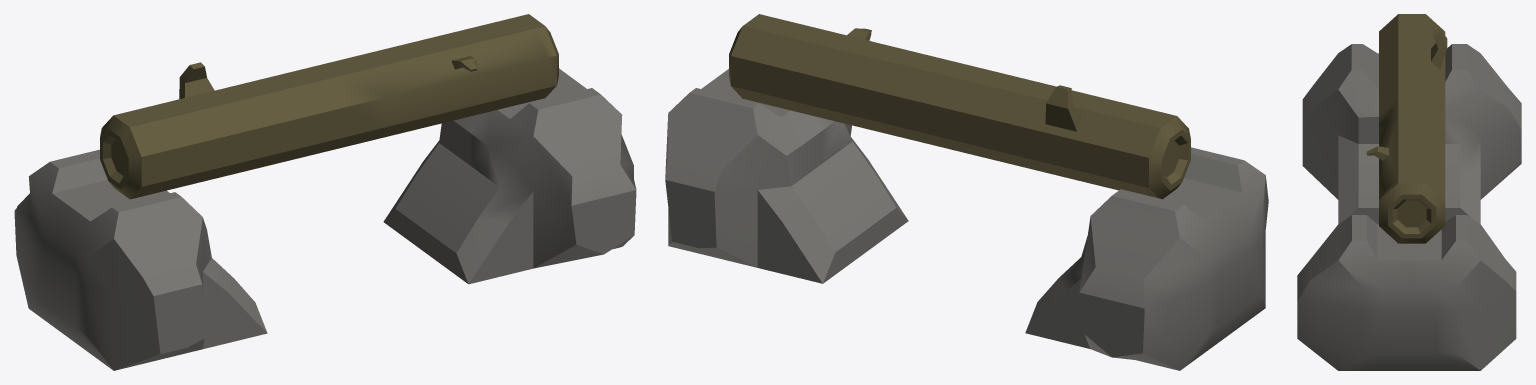
File: Bloqueo tronco.fbx
3 renders of one model, left to right at view 1: azimuth 30°, elevation 25°; view 2: azimuth 150°, elevation 25°; view 3: azimuth 270°, elevation 25°, orthographic. The views are drawn at different scales.
Visible parts, largest first — view 1: Tronco_bloqueo, Piedra_der, Piedra_izq; view 2: Tronco_bloqueo, Piedra_izq, Piedra_der; view 3: Piedra_der, Piedra_izq, Tronco_bloqueo.
Part boxes in pixels (x1,y1,x2,y2): Tronco_bloqueo: (100,14,558,199); Piedra_der: (383,68,636,284); Piedra_izq: (14,149,267,370); Tronco_bloqueo: (729,14,1190,199); Piedra_izq: (1025,147,1268,370); Piedra_der: (665,69,908,283); Piedra_der: (1297,215,1516,370); Piedra_izq: (1302,44,1521,224); Tronco_bloqueo: (1366,14,1447,243).
Size of the model in its own units: 8.29 by 3.4 by 3.62.
